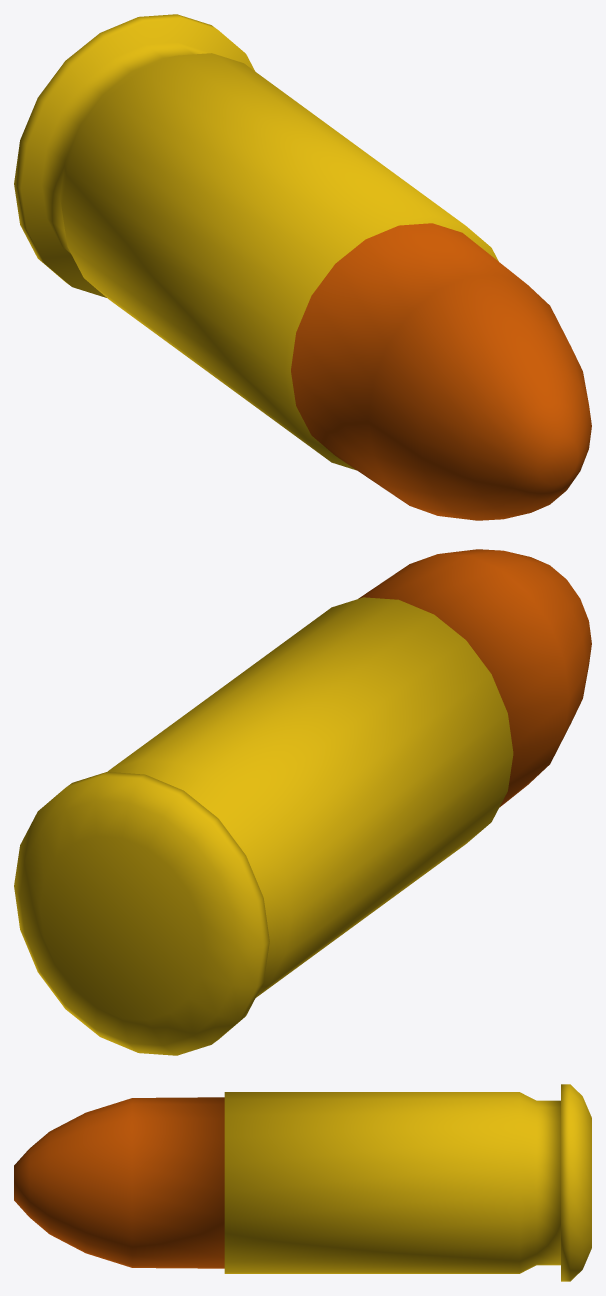
The model's file is BalaHuevo.fbx.
The picture shows the model from 3 angles, top to bottom: view 1: azimuth 30°, elevation 25°; view 2: azimuth 150°, elevation 25°; view 3: azimuth 270°, elevation 25°; orthographic projection. The views are drawn at different scales.
Parts seen in each view (by area): view 1: Bala; view 2: Bala; view 3: Bala.
Part boxes in pixels (bbox=[...]): Bala: bbox=[14, 14, 591, 520]; Bala: bbox=[14, 549, 591, 1055]; Bala: bbox=[14, 1084, 591, 1281].
Bounding box in the file's own units: 8.47 × 8.89 × 25.68.
1 material, 1 textured.
